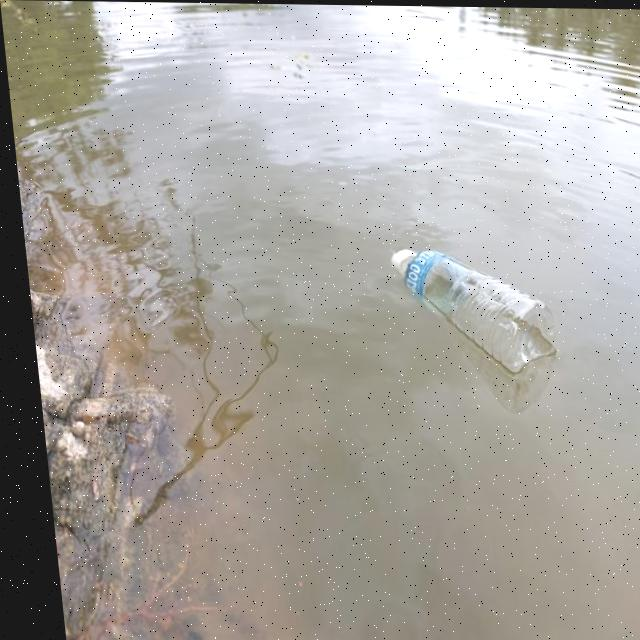waterbottle: (369, 238, 556, 361)
